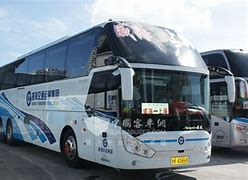bigcar: (0, 17, 234, 166)
